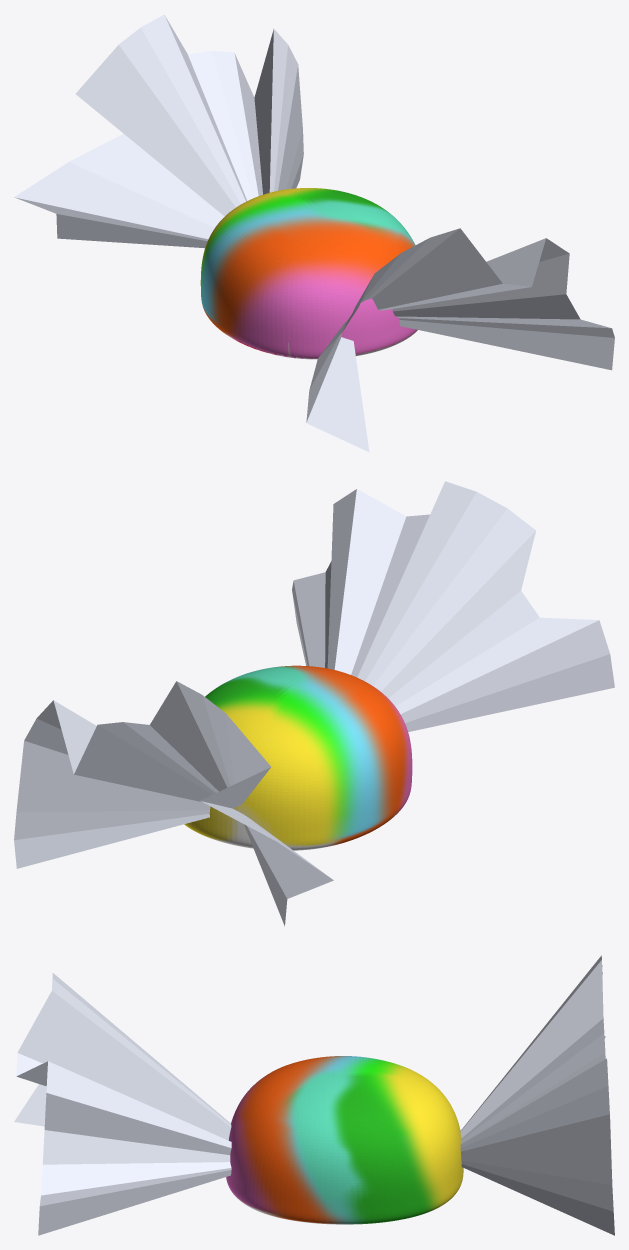
The model's file is CandyRainbow.fbx.
3 renders of one model, top to bottom at view 1: azimuth 30°, elevation 25°; view 2: azimuth 150°, elevation 25°; view 3: azimuth 270°, elevation 25°, orthographic. The views are drawn at different scales.
Visible parts, largest first — view 1: Cone.002, Cube, Cone.001; view 2: Cone.001, Cone.002, Cube; view 3: Cube, Cone.001, Cone.002.
Boxes of the visible parts, bbox=[...] form: Cone.002: bbox=[14, 14, 303, 248]; Cube: bbox=[200, 188, 417, 359]; Cone.001: bbox=[306, 228, 614, 452]; Cone.001: bbox=[292, 481, 614, 731]; Cone.002: bbox=[14, 681, 333, 926]; Cube: bbox=[184, 665, 412, 850]; Cube: bbox=[226, 1056, 463, 1224]; Cone.001: bbox=[14, 973, 231, 1235]; Cone.002: bbox=[460, 955, 614, 1235].
Bounding box in the file's own units: 111 × 70.1 × 179.
Materials: 2 (1 with a texture image).
